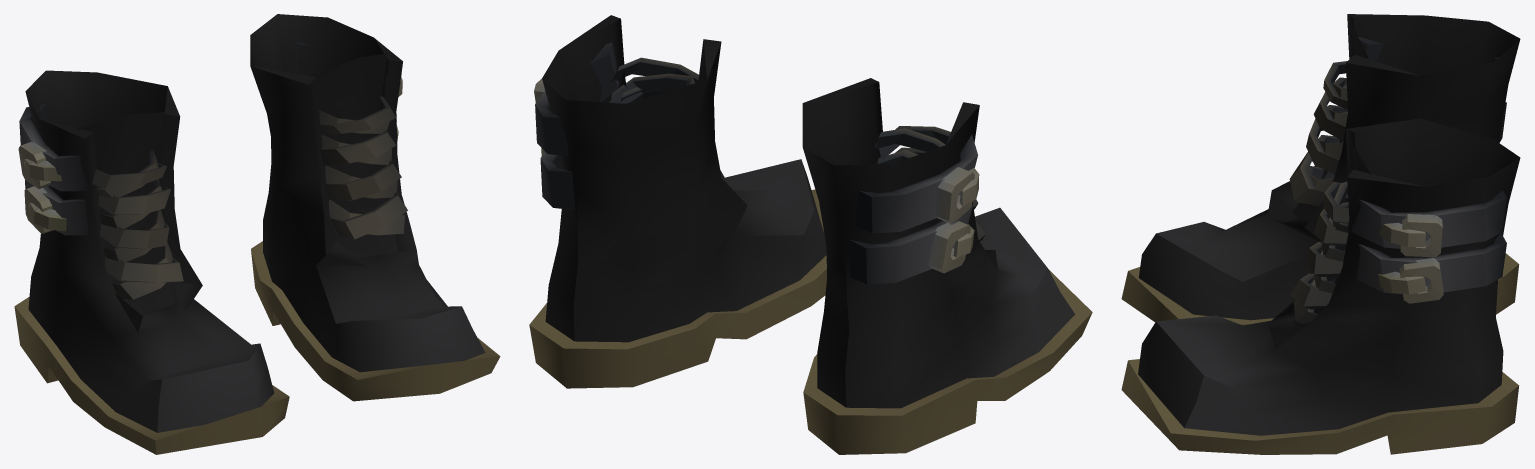
File: ShoesE_CombatBoots.glb
The picture shows the model from 3 angles, left to right: view 1: azimuth 30°, elevation 25°; view 2: azimuth 150°, elevation 25°; view 3: azimuth 270°, elevation 25°; orthographic projection. The views are drawn at different scales.
Parts seen in each view (by area): view 1: ShoesE_CombatBoots; view 2: ShoesE_CombatBoots; view 3: ShoesE_CombatBoots.
Part boxes in pixels (x1,y1,x2,y2): ShoesE_CombatBoots: (14, 14, 500, 454); ShoesE_CombatBoots: (529, 15, 1092, 454); ShoesE_CombatBoots: (1121, 14, 1520, 454).
Bounding box in the file's own units: 1.01 × 0.6946 × 0.8904.
